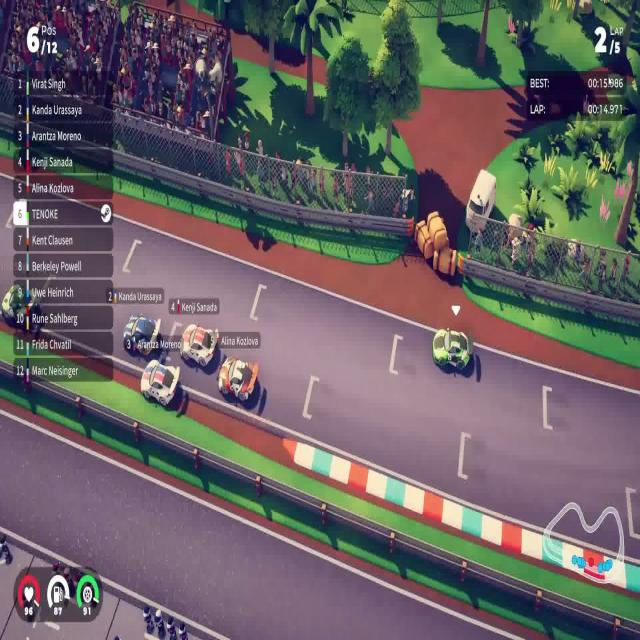car: (217, 354, 259, 404), (140, 357, 180, 407), (432, 326, 472, 372), (122, 312, 163, 356), (179, 322, 219, 367)
